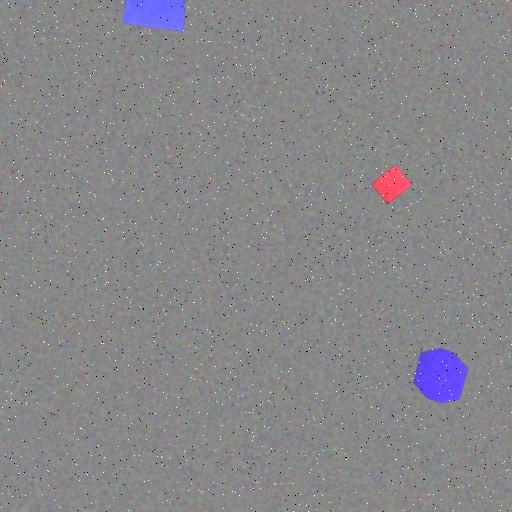BLUE_SQUARE: (122, 0, 188, 31)
RED_SQUARE: (370, 164, 413, 206)
